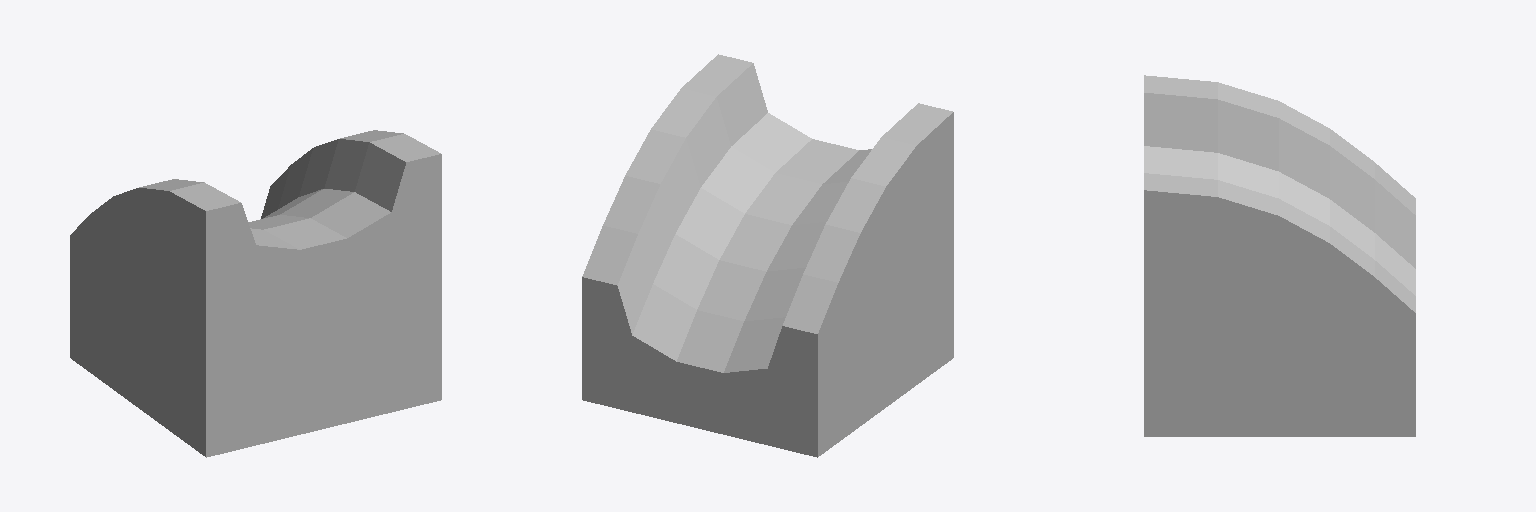
Rendered from ramp-end-solid-c.obj.
3 views of the same model, side by side, from view 1: azimuth 30°, elevation 25°; view 2: azimuth 150°, elevation 25°; view 3: azimuth 270°, elevation 25° (orthographic).
Parts seen in each view (by area): view 1: ramp-end-solid-c; view 2: ramp-end-solid-c; view 3: ramp-end-solid-c.
Part boxes in pixels (x1,y1,x2,y2): ramp-end-solid-c: (70, 130, 441, 457); ramp-end-solid-c: (582, 54, 953, 457); ramp-end-solid-c: (1144, 75, 1415, 436).
Bounding box in the file's own units: 1 × 1 × 1.